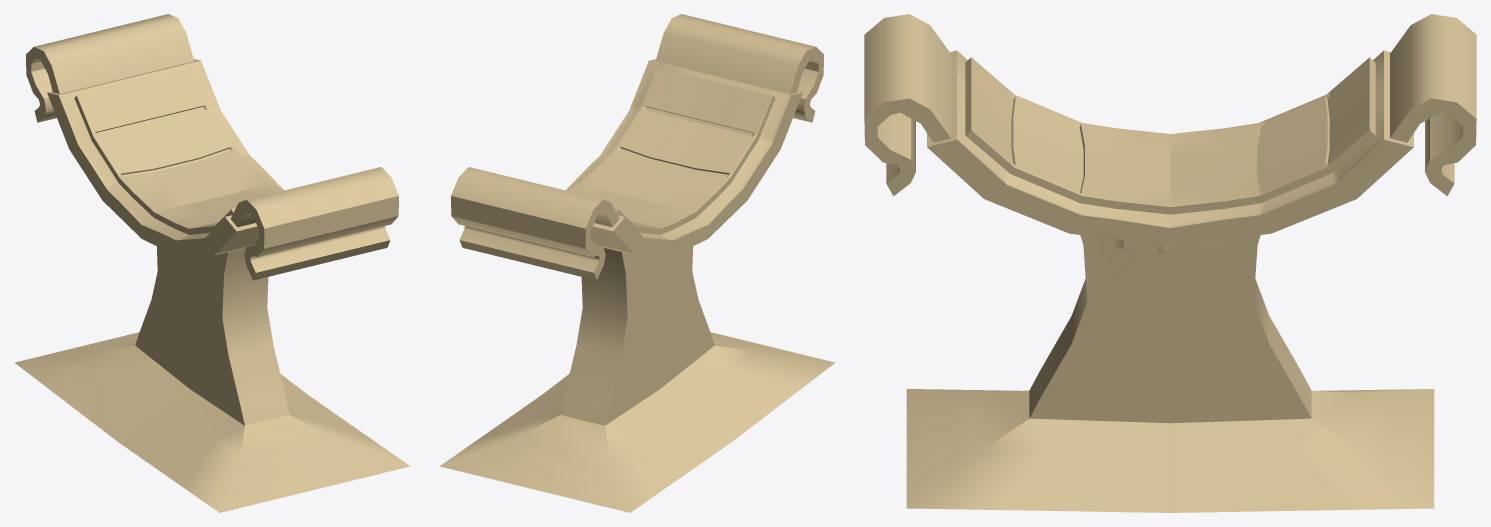
File: Chair.fbx
3 views of the same model, side by side, from view 1: azimuth 30°, elevation 25°; view 2: azimuth 150°, elevation 25°; view 3: azimuth 270°, elevation 25° (orthographic). The views are drawn at different scales.
Parts seen in each view (by area): view 1: pPipe1; view 2: pPipe1; view 3: pPipe1.
Boxes of the visible parts, box(x1,y1,x2,y2) form: pPipe1: box(15, 14, 410, 512); pPipe1: box(439, 14, 834, 512); pPipe1: box(864, 14, 1476, 512).
Size of the model in its own units: 6.48 by 10.03 by 14.01.
